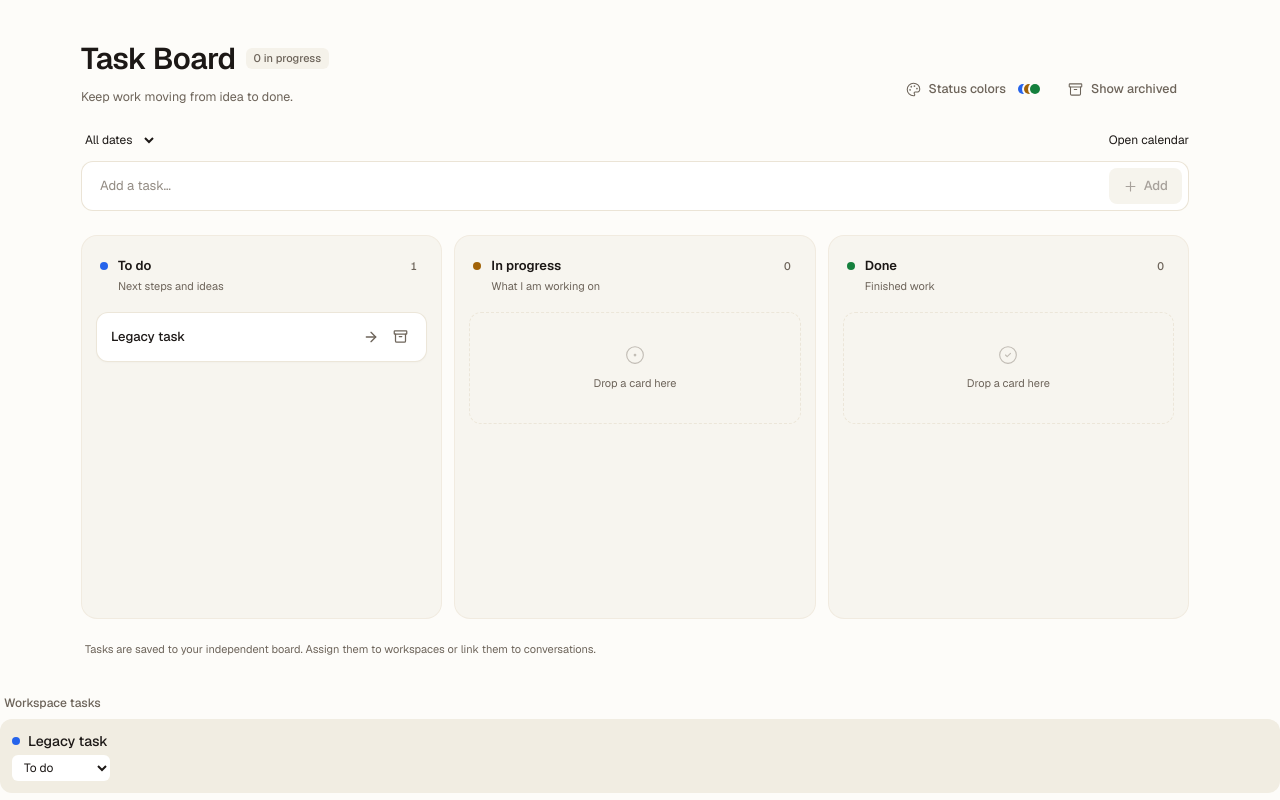
shows legacy General cards in both the board and activity panel and synchronizes edits
Check: the button "Legacy task" is shown, box [111, 325, 412, 349]
Select "In progress" in the dropdown named "Legacy task: Task status" at [61, 768], box [12, 755, 110, 781]
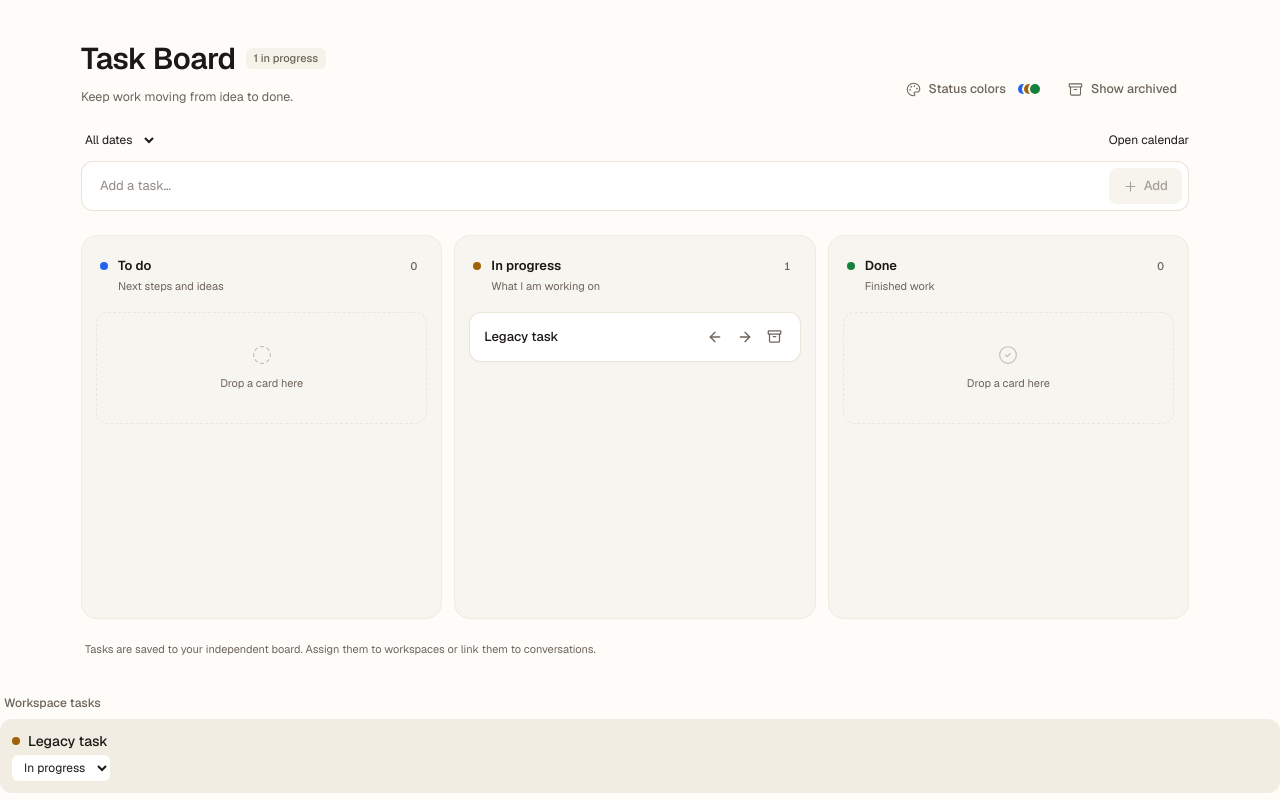
Check: the element "To do" does not show "Legacy task", box [81, 235, 442, 619]
Check: the element "In progress" shows "Legacy task", box [484, 325, 786, 349]
